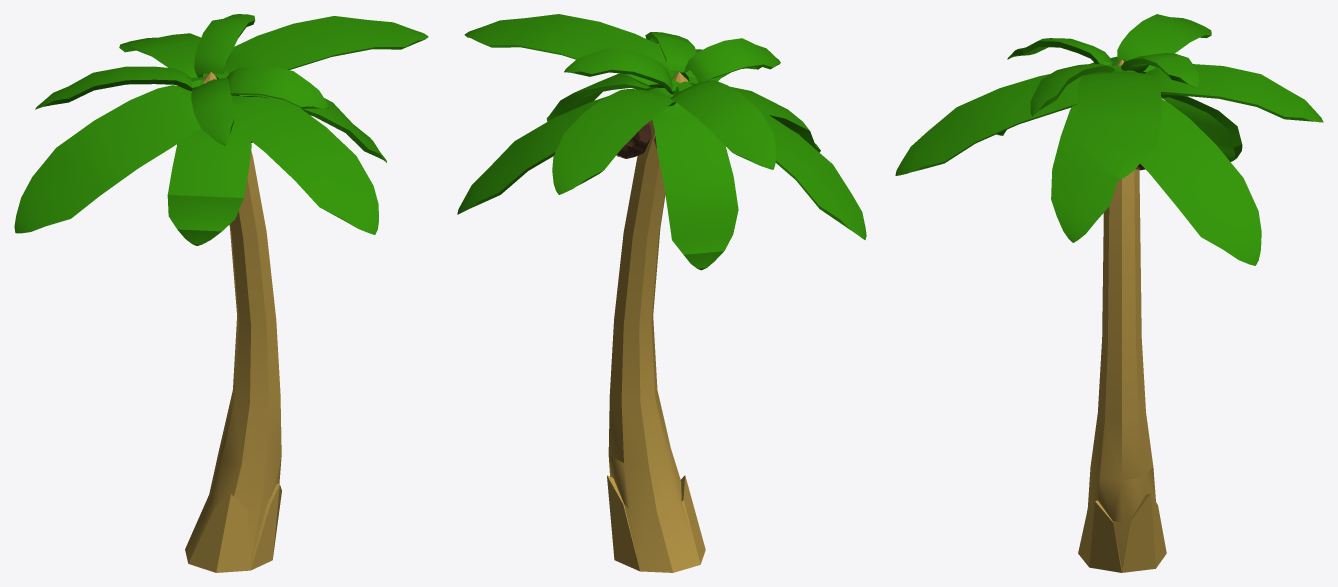
Rendered from _palmTree.fbx.
3 views of the same model, side by side, from view 1: azimuth 30°, elevation 25°; view 2: azimuth 150°, elevation 25°; view 3: azimuth 270°, elevation 25° (orthographic).
Visible parts, largest first — view 1: Cylinder, Cylinder_10, Cylinder_4, Cylinder_5, Cylinder_1, Cylinder_12, Cylinder_11, Cylinder_7, Cylinder_3, Cylinder_6, Cylinder_2; view 2: Cylinder, Cylinder_9, Cylinder_6, Cylinder_1, Cylinder_11, Cylinder_10, Cylinder_8, Cylinder_3, Cylinder_7, Cylinder_2, Cylinder_5, Cylinder_12 (+1 smaller); view 3: Cylinder, Cylinder_8, Cylinder_1, Cylinder_4, Cylinder_2, Cylinder_6, Cylinder_11, Cylinder_9, Cylinder_12, Cylinder_7, Cylinder_3.
Part boxes in pixels (x1,y1,x2,y2): Cylinder: (185, 72, 281, 572); Cylinder_10: (14, 85, 200, 233); Cylinder_4: (231, 95, 378, 234); Cylinder_5: (167, 126, 251, 245); Cylinder_1: (213, 16, 428, 78); Cylinder_12: (227, 66, 328, 108); Cylinder_11: (35, 66, 203, 109); Cylinder_7: (194, 14, 255, 78); Cylinder_3: (191, 77, 234, 145); Cylinder_6: (119, 33, 200, 77); Cylinder_2: (231, 94, 386, 162); Cylinder: (607, 72, 705, 572); Cylinder_9: (652, 102, 738, 270); Cylinder_6: (552, 87, 675, 194); Cylinder_1: (464, 14, 682, 87); Cylinder_11: (670, 80, 776, 169); Cylinder_10: (757, 108, 866, 239); Cylinder_8: (457, 96, 607, 214); Cylinder_3: (681, 38, 780, 84); Cylinder_7: (564, 47, 679, 94); Cylinder_2: (546, 73, 655, 121); Cylinder_5: (730, 86, 820, 152); Cylinder_12: (645, 32, 696, 76); Cylinder: (1078, 59, 1166, 572); Cylinder_8: (1140, 99, 1261, 265); Cylinder_1: (1077, 65, 1161, 180); Cylinder_4: (895, 73, 1091, 175); Cylinder_2: (1051, 104, 1117, 242); Cylinder_6: (1145, 64, 1323, 122); Cylinder_11: (1117, 14, 1211, 73); Cylinder_9: (1161, 94, 1242, 161); Cylinder_12: (1030, 64, 1114, 115); Cylinder_7: (1121, 53, 1199, 88); Cylinder_3: (1007, 38, 1116, 66).
Size of the model in its own units: 1013 by 1218 by 926.
